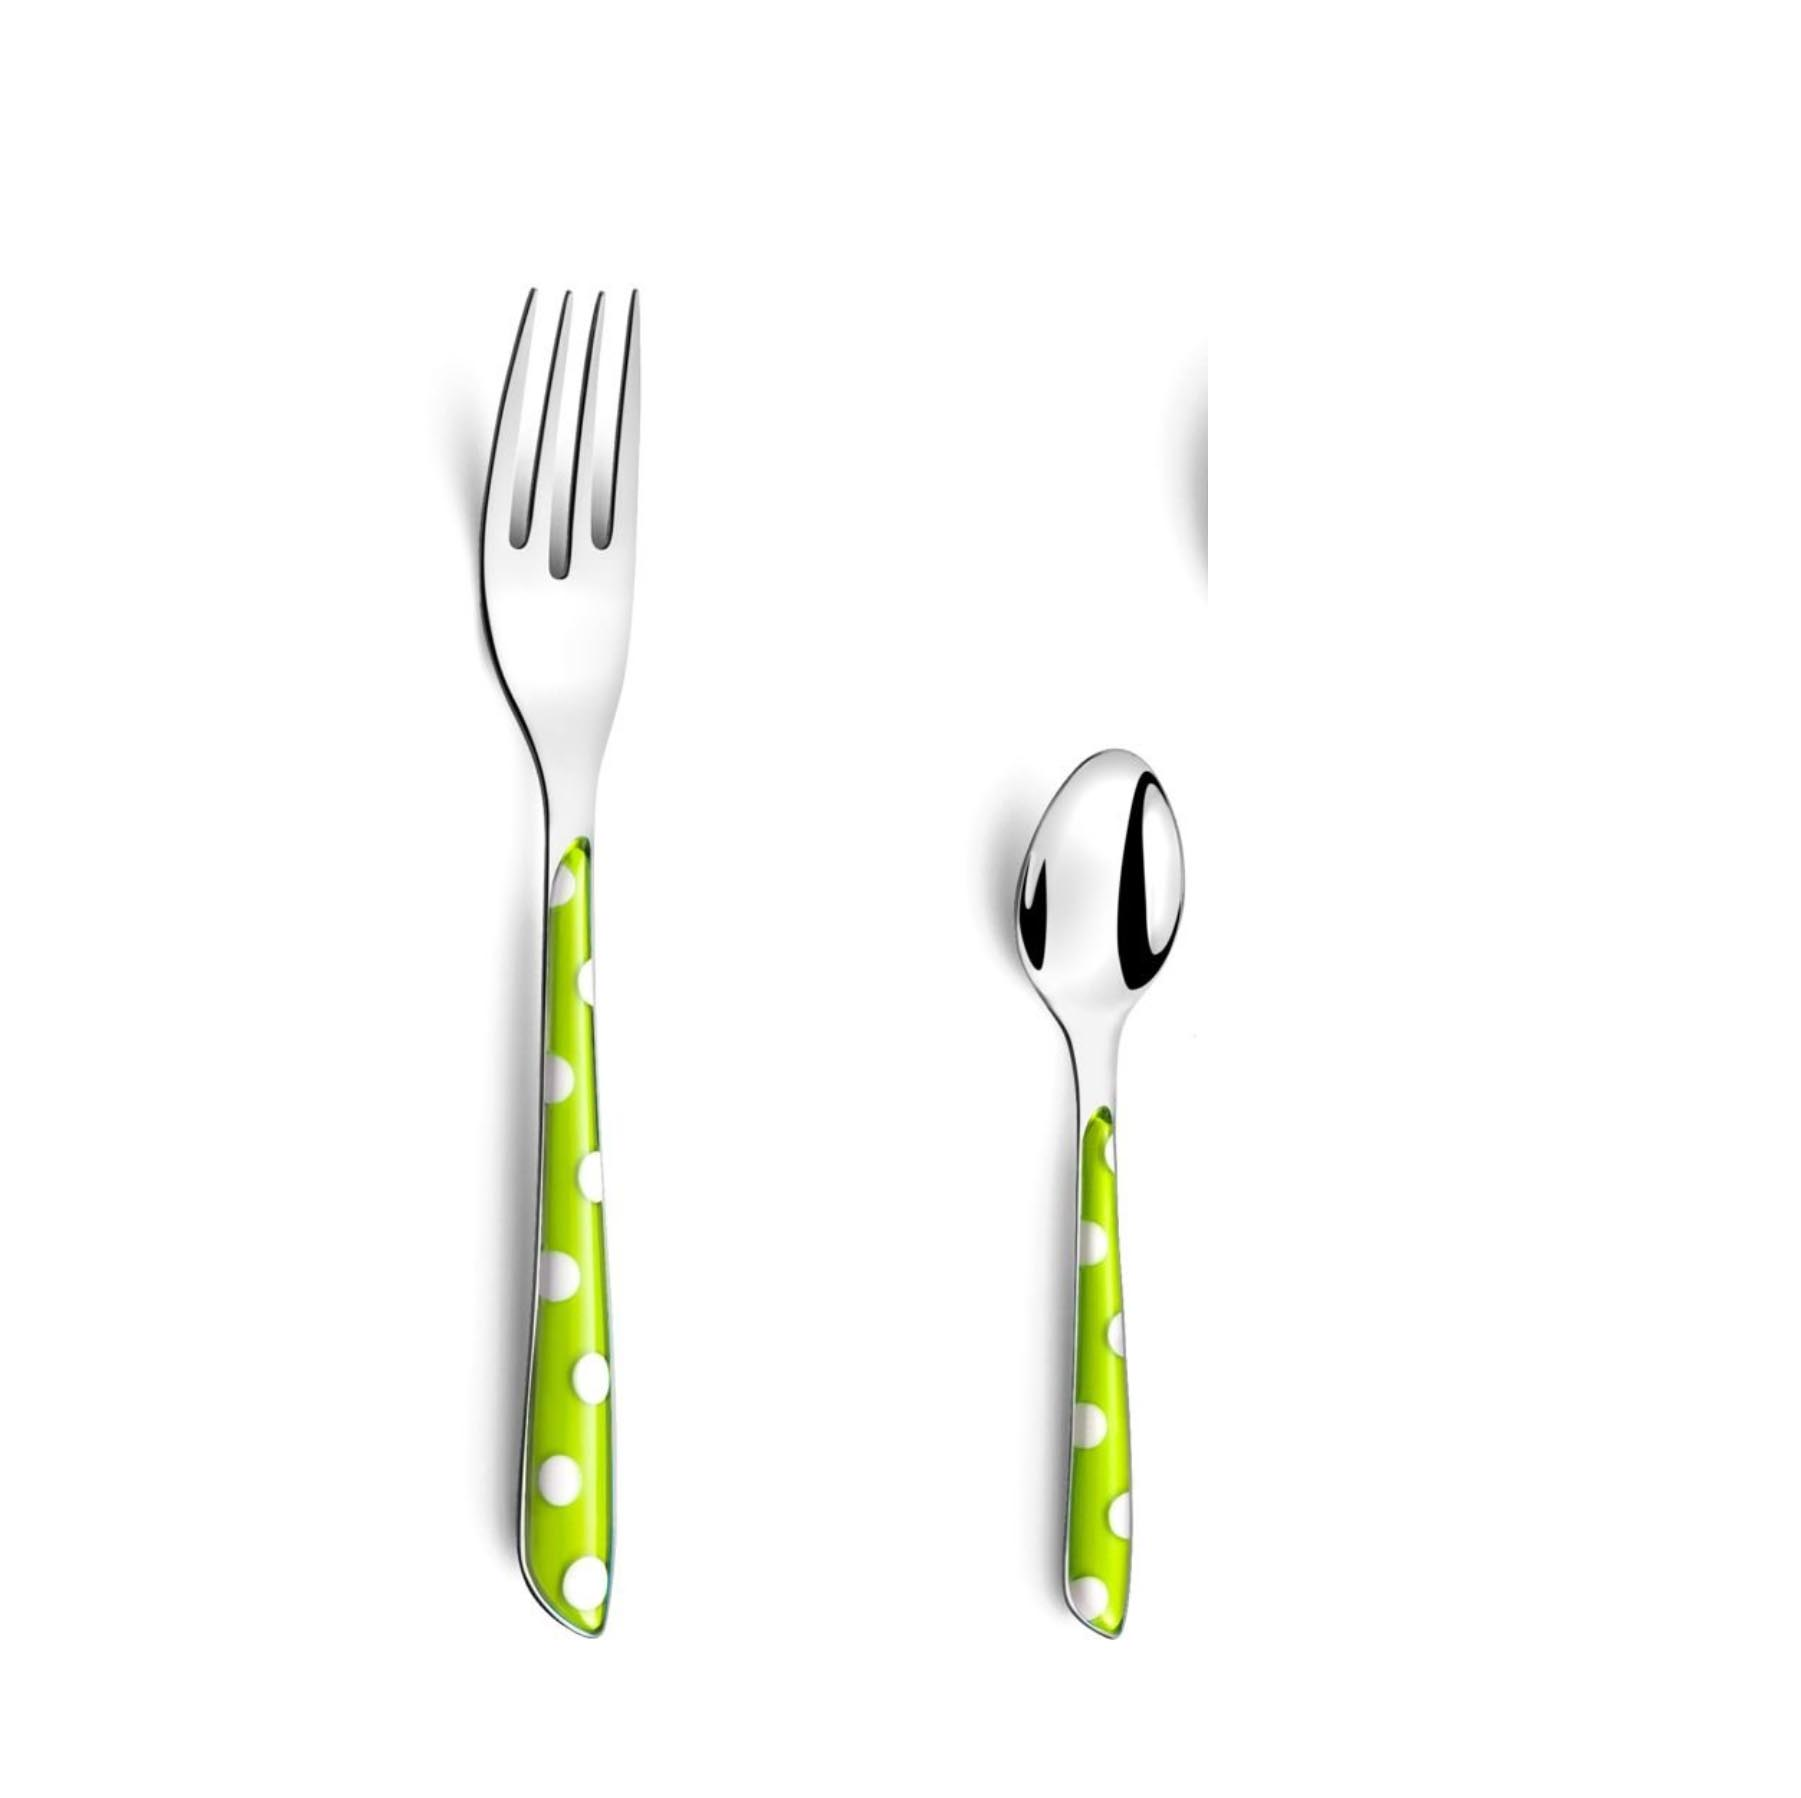Lyzka: (1001, 741, 1202, 1027)
Widelec: (468, 273, 650, 754)
